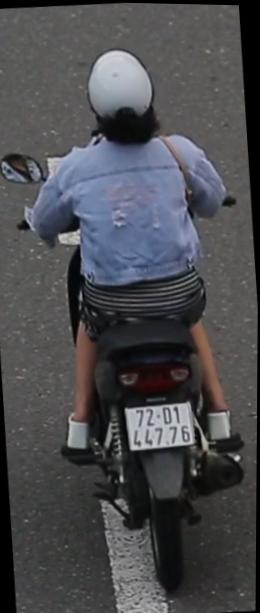LP: (122, 392, 202, 469)
helmet: (79, 44, 164, 135)
